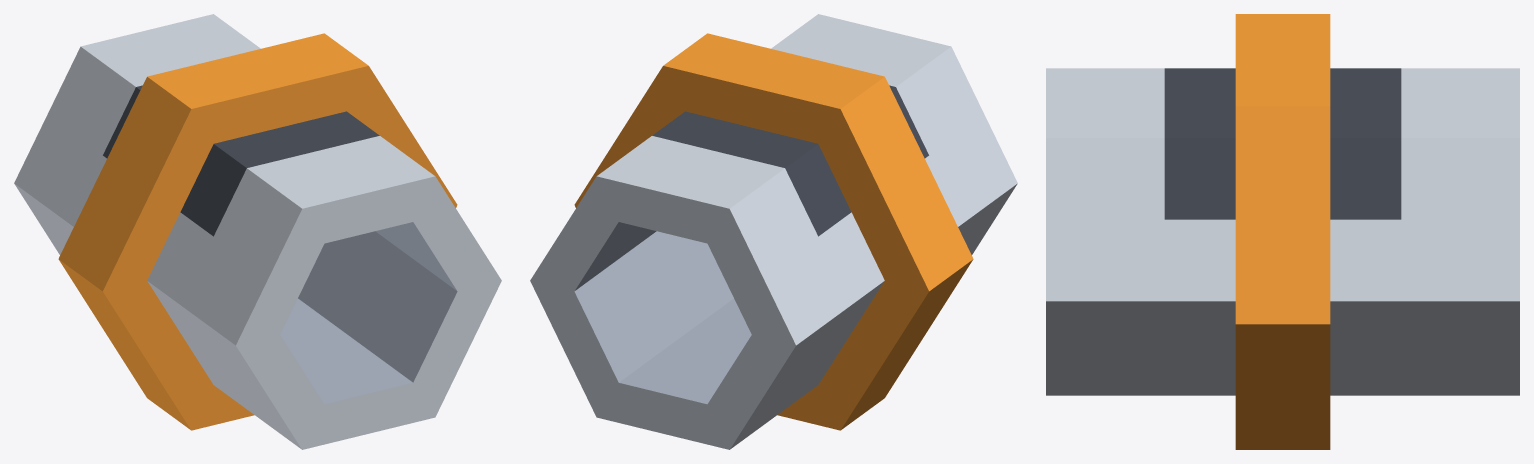
File: pipe_ring.glb
3 views of the same model, side by side, from view 1: azimuth 30°, elevation 25°; view 2: azimuth 150°, elevation 25°; view 3: azimuth 270°, elevation 25° (orthographic). The views are drawn at different scales.
Parts seen in each view (by area): view 1: pipe_ring; view 2: pipe_ring; view 3: pipe_ring.
Boxes of the visible parts, bbox=[...] form: pipe_ring: bbox=[14, 14, 501, 449]; pipe_ring: bbox=[530, 14, 1017, 449]; pipe_ring: bbox=[1046, 14, 1519, 449].
Size of the model in its own units: 0.9238 by 0.8 by 1.
